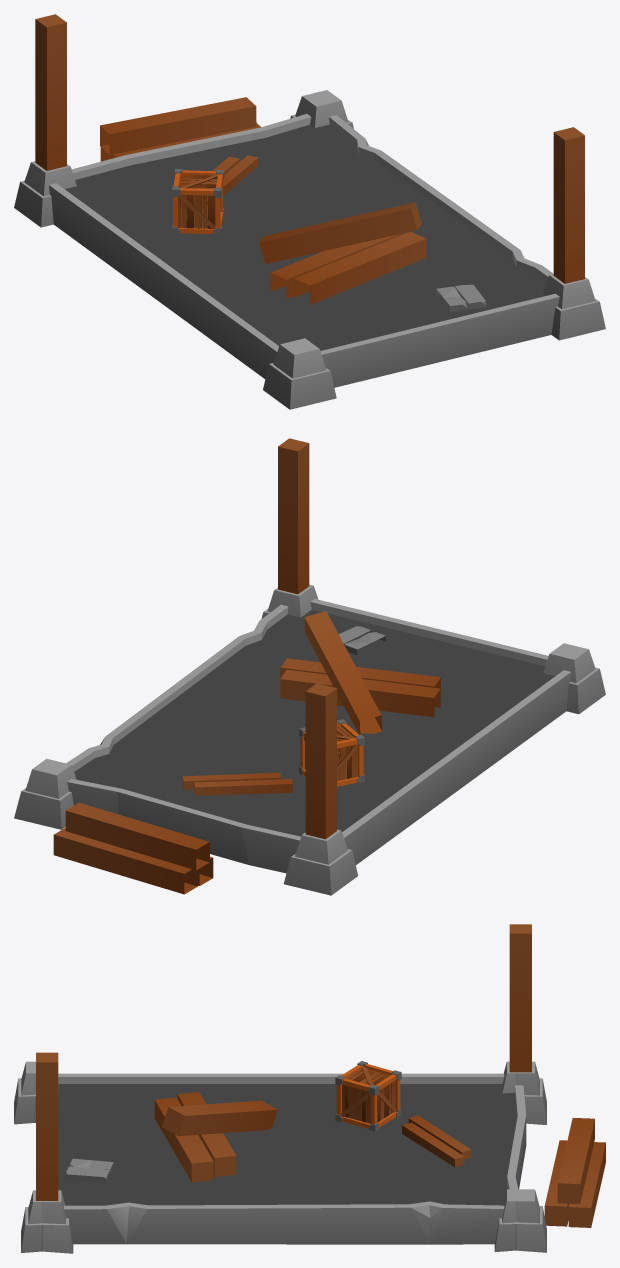
File: townhall_d_01.fbx
3 renders of one model, top to bottom at view 1: azimuth 30°, elevation 25°; view 2: azimuth 150°, elevation 25°; view 3: azimuth 270°, elevation 25°, orthographic. The views are drawn at different scales.
Parts seen in each view (by area): view 1: Object008.002; view 2: Object008.002; view 3: Object008.002.
Part boxes in pixels (left/top/right/bottom): Object008.002: left=14, top=14, right=605, bottom=409; Object008.002: left=14, top=438, right=605, bottom=895; Object008.002: left=14, top=924, right=605, bottom=1253.
Bounding box in the file's own units: 7.34 × 4.29 × 12.15.
